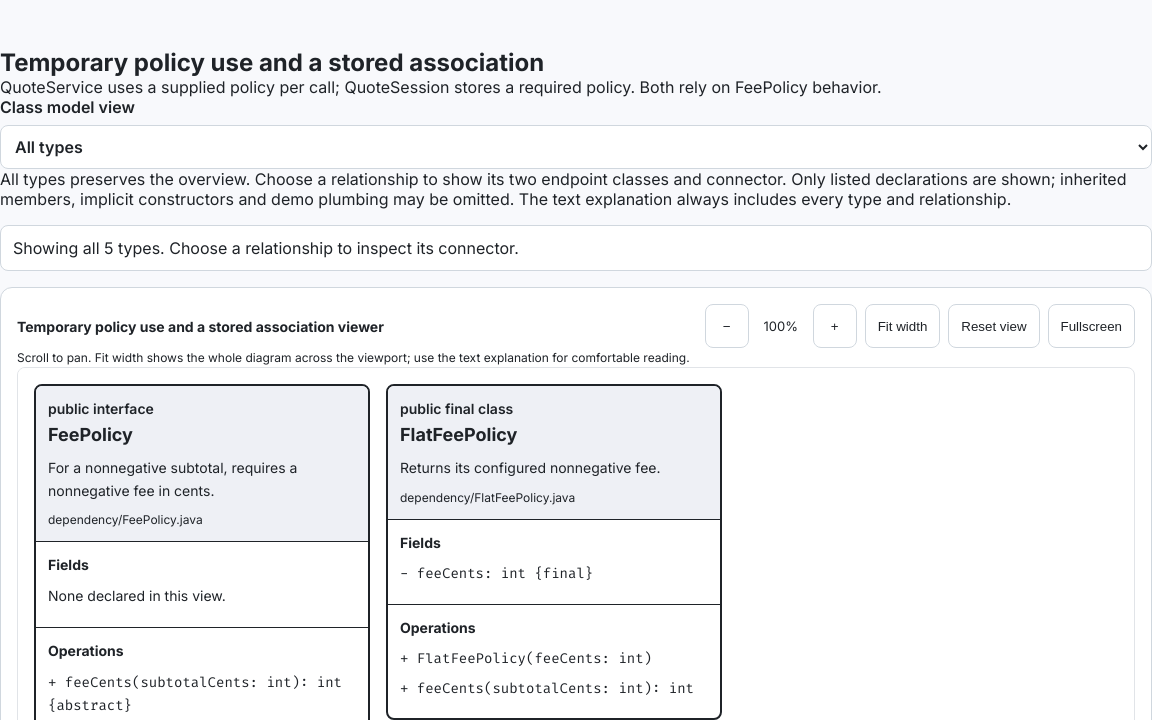
Test case: Curated relationship connectors › keeps the complete transcript when a pair omits other types and relationships
Step 1. Select "Dependency: QuoteService / FeePolicy" in the dropdown labelled "Class model view" → (576, 147), box [0, 125, 1151, 169]
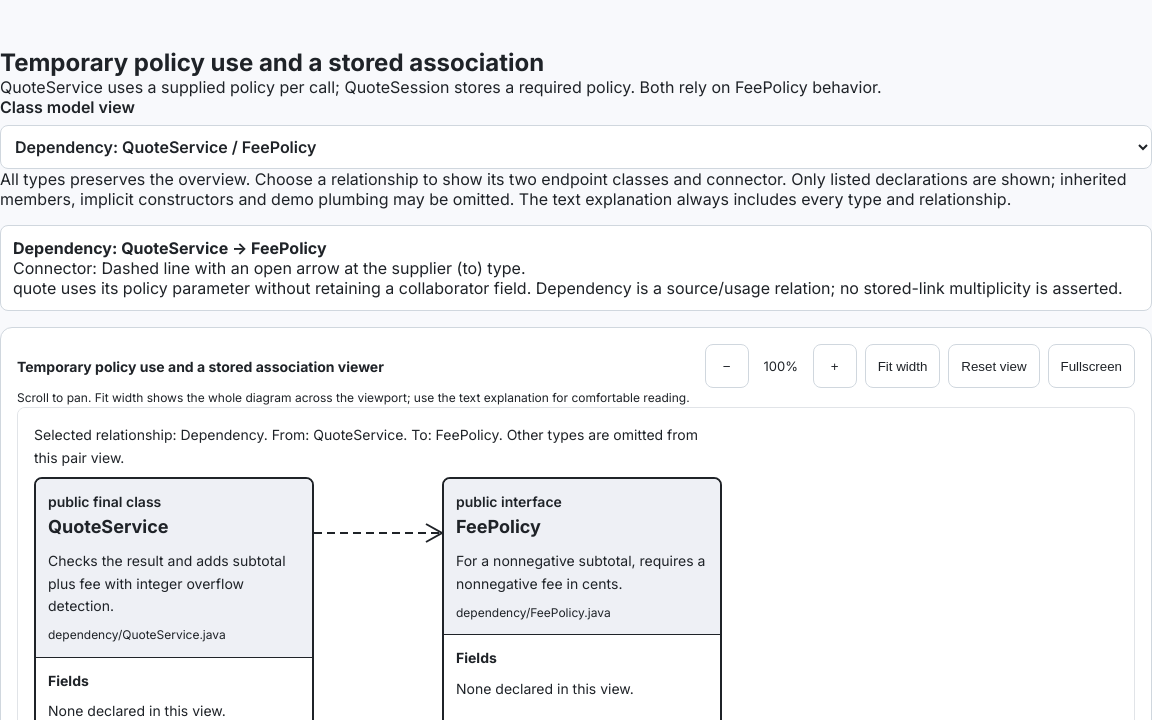
Expected: the text "Only listed declarations are shown; inherited members" is shown, [0, 169, 1126, 209]
Now the element with class "lesson-class-model-selection" shows "Dashed line with an open arrow", box [102, 258, 526, 278]
